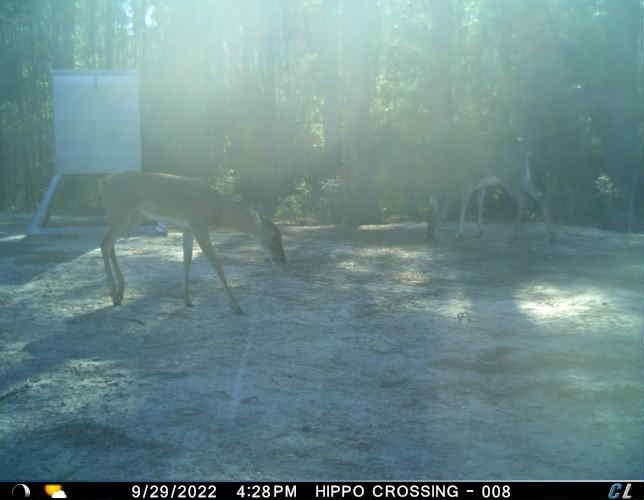Deer: (95, 169, 289, 322), (422, 144, 557, 244)
